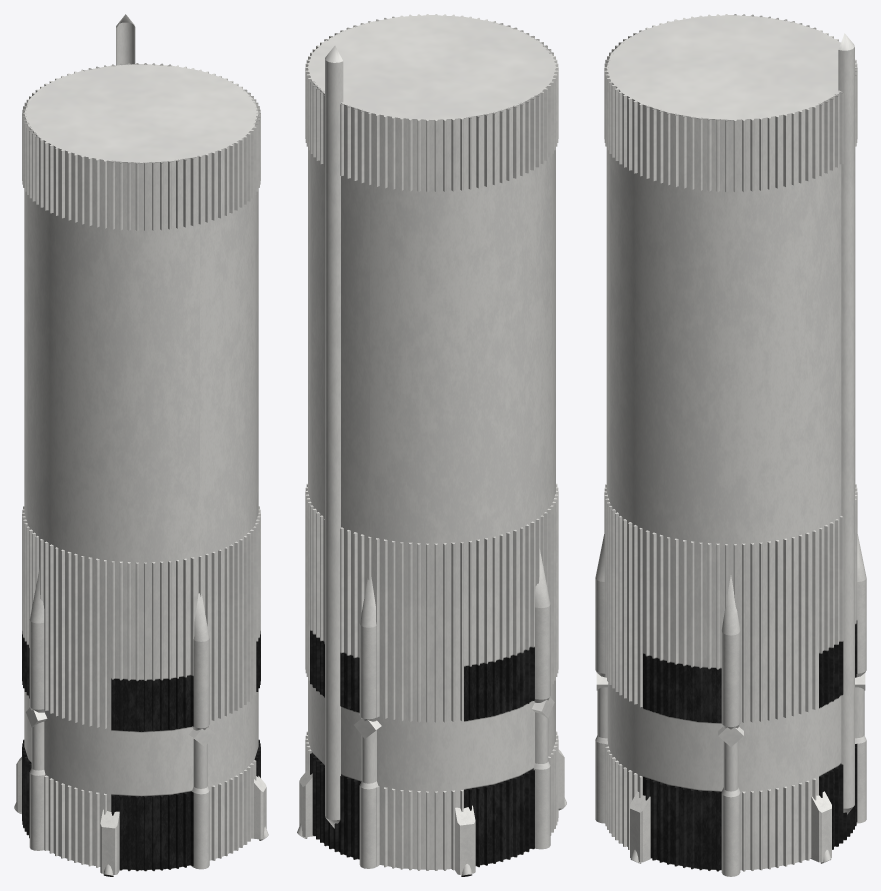
File: ksprocket.fbx
3 views of the same model, side by side, from view 1: azimuth 30°, elevation 25°; view 2: azimuth 150°, elevation 25°; view 3: azimuth 270°, elevation 25° (orthographic). The views are drawn at different scales.
Parts seen in each view (by area): view 1: tank.008, ducts.003; view 2: tank.008, ducts.003; view 3: tank.008, ducts.003.
Part boxes in pixels (x1,y1,x2,y2): tank.008: (22,63,260,871); ducts.003: (14,14,268,876); tank.008: (305,14,558,870); ducts.003: (297,45,566,876); tank.008: (604,14,857,871); ducts.003: (595,33,866,876).
Bounding box in the file's own units: 917 × 3025 × 917.
2 materials, 2 textured.
